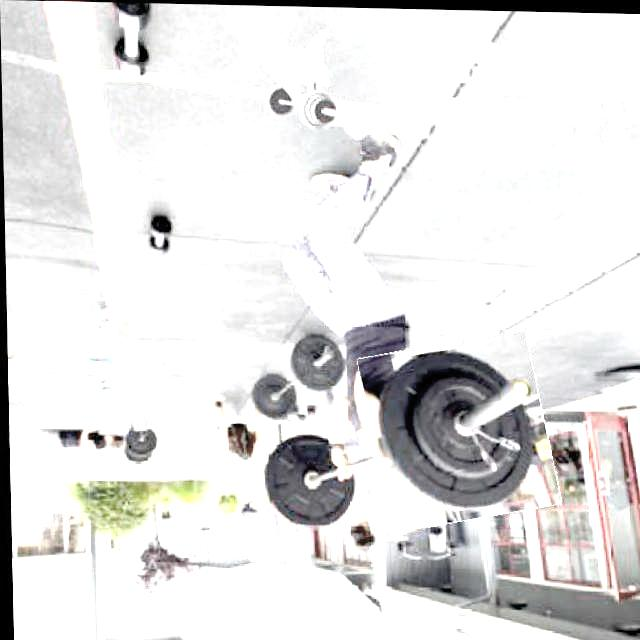barbell: (362, 332, 552, 527)
